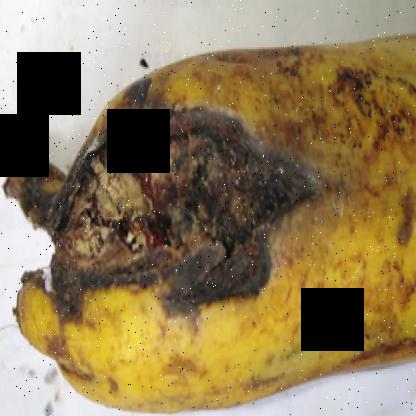ripe: (317, 26, 415, 387)
rotten: (27, 74, 356, 366)
